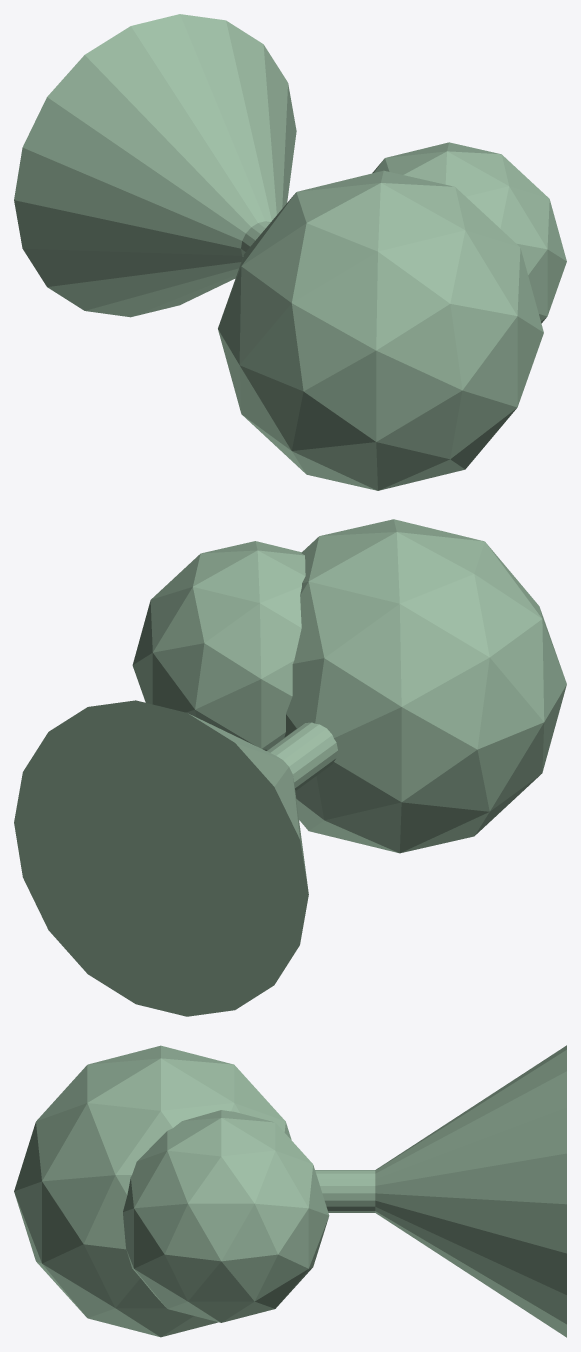
File: office-planter_lod1.glb
3 renders of one model, top to bottom at view 1: azimuth 30°, elevation 25°; view 2: azimuth 150°, elevation 25°; view 3: azimuth 270°, elevation 25°, orthographic. The views are drawn at different scales.
Visible parts, largest first — view 1: world; view 2: world; view 3: world.
Part boxes in pixels (x1,y1,x2,y2): world: [14, 14, 566, 490]; world: [14, 519, 566, 1016]; world: [14, 1045, 566, 1337].
Bounding box in the file's own units: 0.83 × 0.68 × 1.28.
